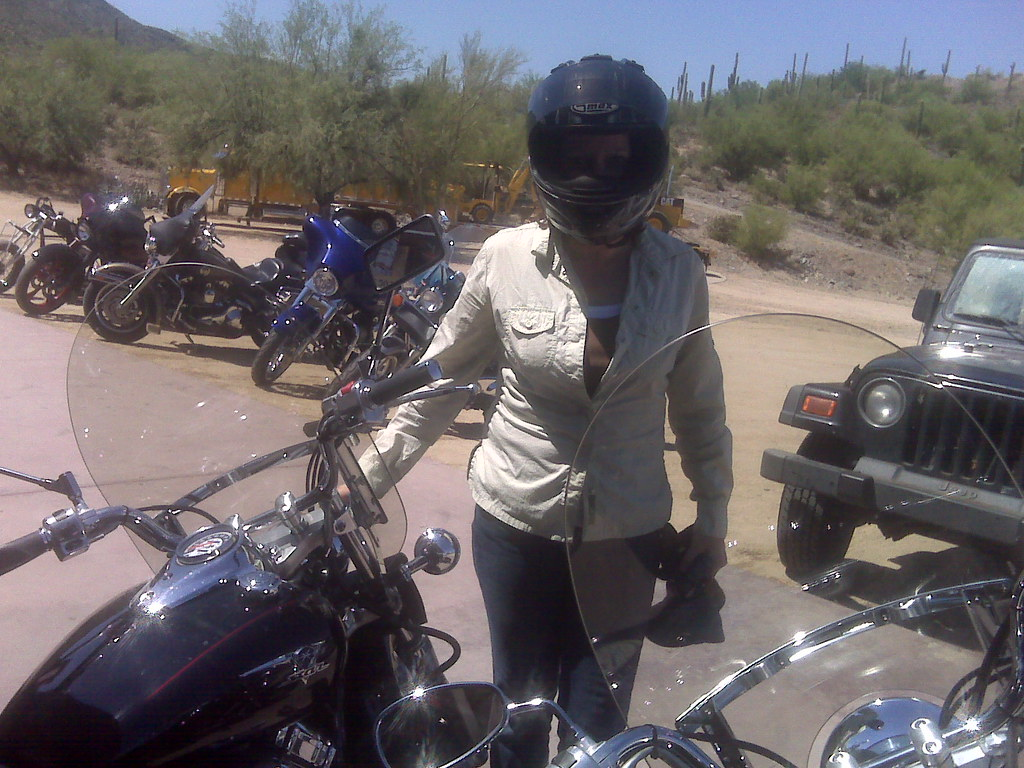helmet: (514, 57, 685, 238)
